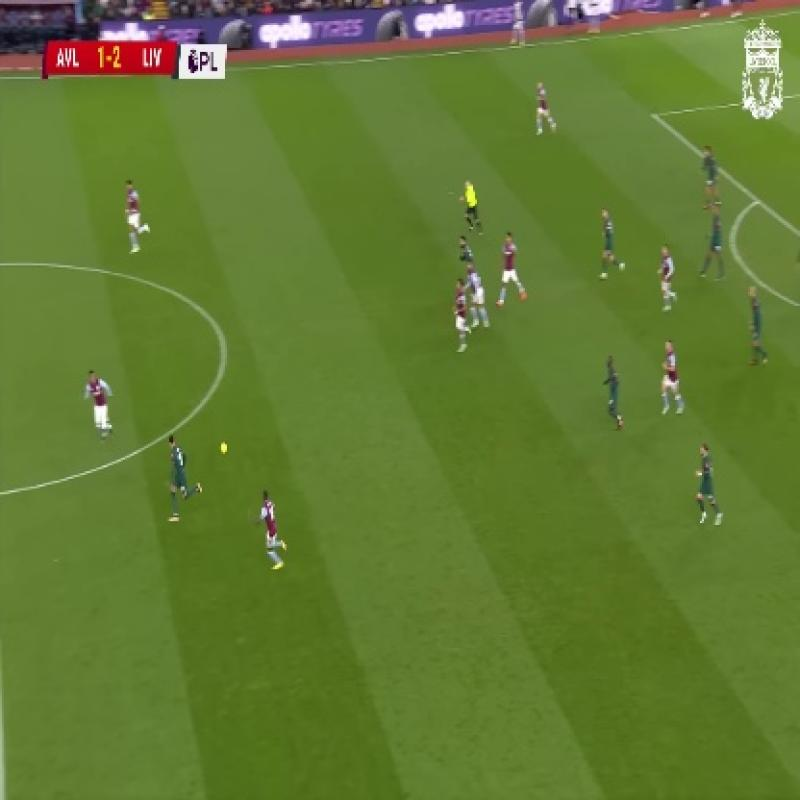10: (746, 186, 765, 212)
9: (642, 100, 664, 127)
c: (202, 327, 244, 368)
